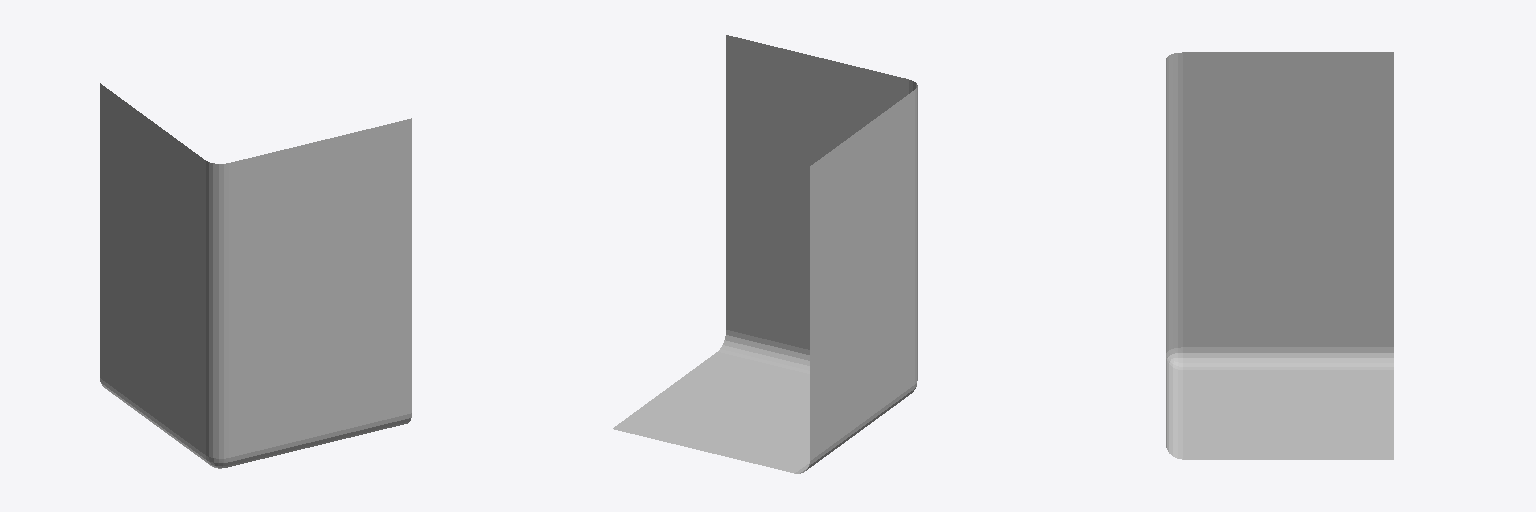
Rendered from corner1.obj.
3 renders of one model, left to right at view 1: azimuth 30°, elevation 25°; view 2: azimuth 150°, elevation 25°; view 3: azimuth 270°, elevation 25°, orthographic.
Visible parts, largest first — view 1: corner; view 2: corner; view 3: corner.
Part boxes in pixels (left/top/right/bottom): corner: left=100, top=83, right=411, bottom=468; corner: left=613, top=35, right=917, bottom=473; corner: left=1166, top=52, right=1393, bottom=459.
Size of the model in its own units: 2 by 3 by 2.